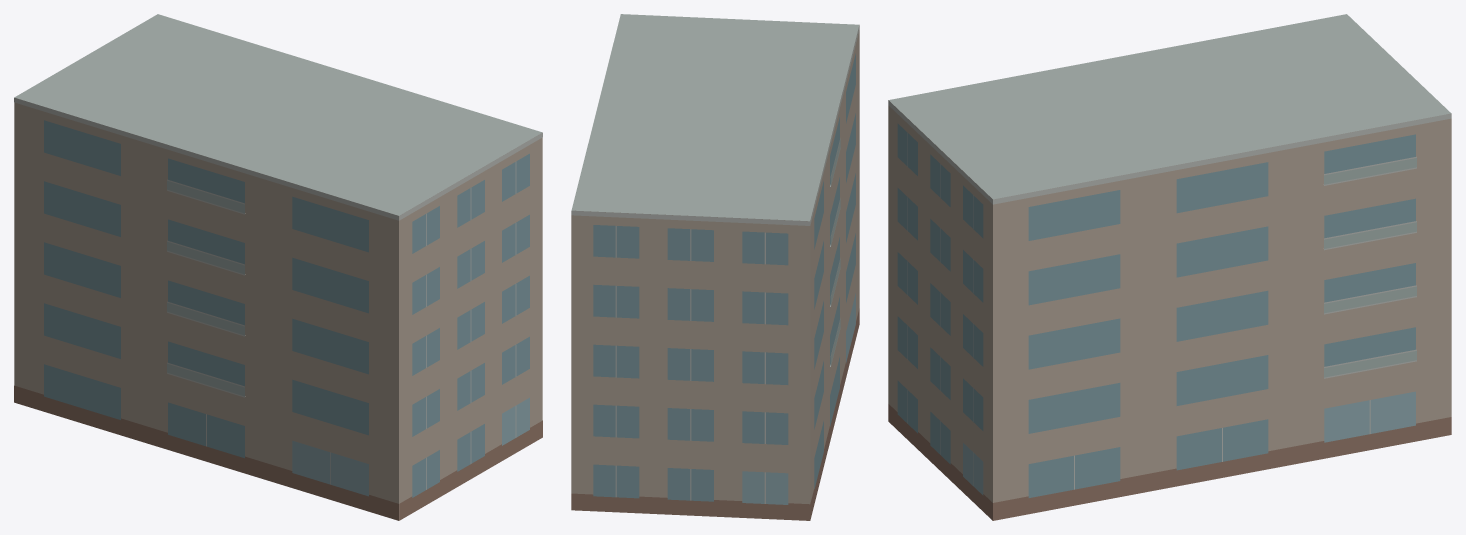
File: residential-bec754d9-f4ec-4006-82bb-e263479b9faa.glb
The picture shows the model from 3 angles, left to right: view 1: azimuth 30°, elevation 25°; view 2: azimuth 150°, elevation 25°; view 3: azimuth 270°, elevation 25°; orthographic projection. The views are drawn at different scales.
Parts seen in each view (by area): view 1: residential-bec754d9-f4ec-4006-82bb-e263479b9faa.tmp; view 2: residential-bec754d9-f4ec-4006-82bb-e263479b9faa.tmp; view 3: residential-bec754d9-f4ec-4006-82bb-e263479b9faa.tmp.
Part boxes in pixels (x1=…): residential-bec754d9-f4ec-4006-82bb-e263479b9faa.tmp: x1=14, y1=14, x2=542, y2=520; residential-bec754d9-f4ec-4006-82bb-e263479b9faa.tmp: x1=571, y1=14, x2=859, y2=520; residential-bec754d9-f4ec-4006-82bb-e263479b9faa.tmp: x1=888, y1=14, x2=1451, y2=520.
Bounding box in the file's own units: 18.88 × 15.25 × 24.22.
